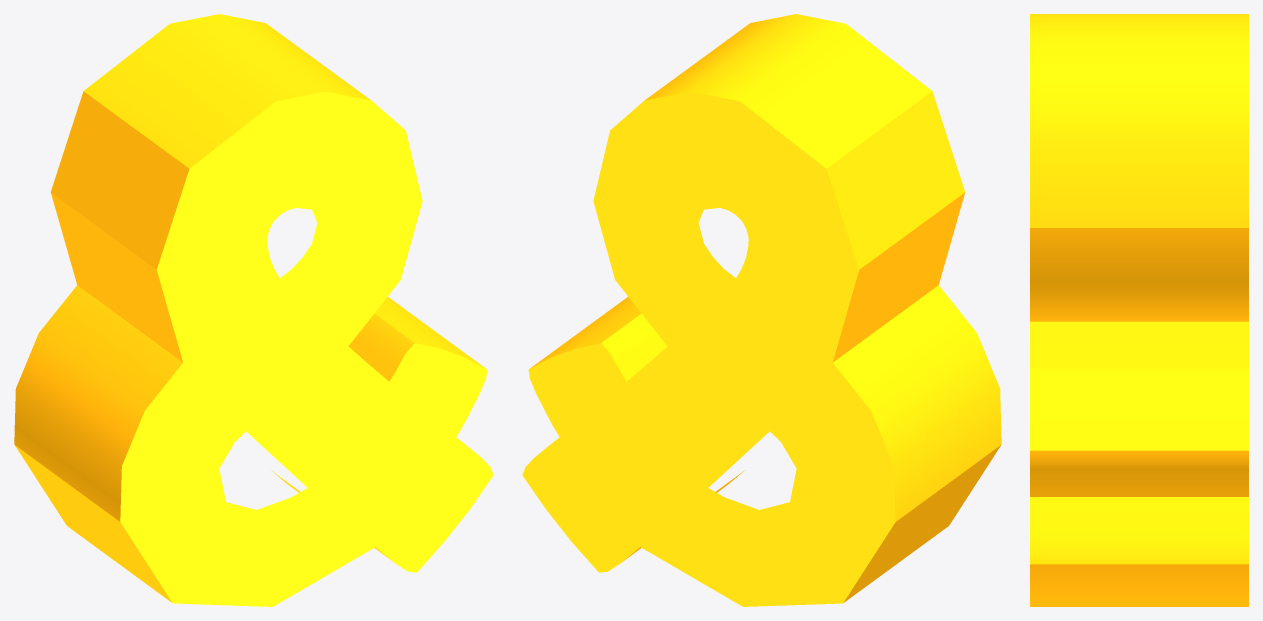
File: symbol&_Zyzol_Yellow.glb
3 renders of one model, left to right at view 1: azimuth 30°, elevation 25°; view 2: azimuth 150°, elevation 25°; view 3: azimuth 270°, elevation 25°, orthographic. The views are drawn at different scales.
Visible parts, largest first — view 1: &_Zyzol_Yellow; view 2: &_Zyzol_Yellow; view 3: &_Zyzol_Yellow.
Part boxes in pixels (x1,y1,x2,y2): &_Zyzol_Yellow: (14,14,493,606); &_Zyzol_Yellow: (522,14,1001,606); &_Zyzol_Yellow: (1030,14,1248,606).
Size of what is drawn, in the model's own units: 0.0915 by 0.1184 by 0.045.
2 materials, 2 textured.
